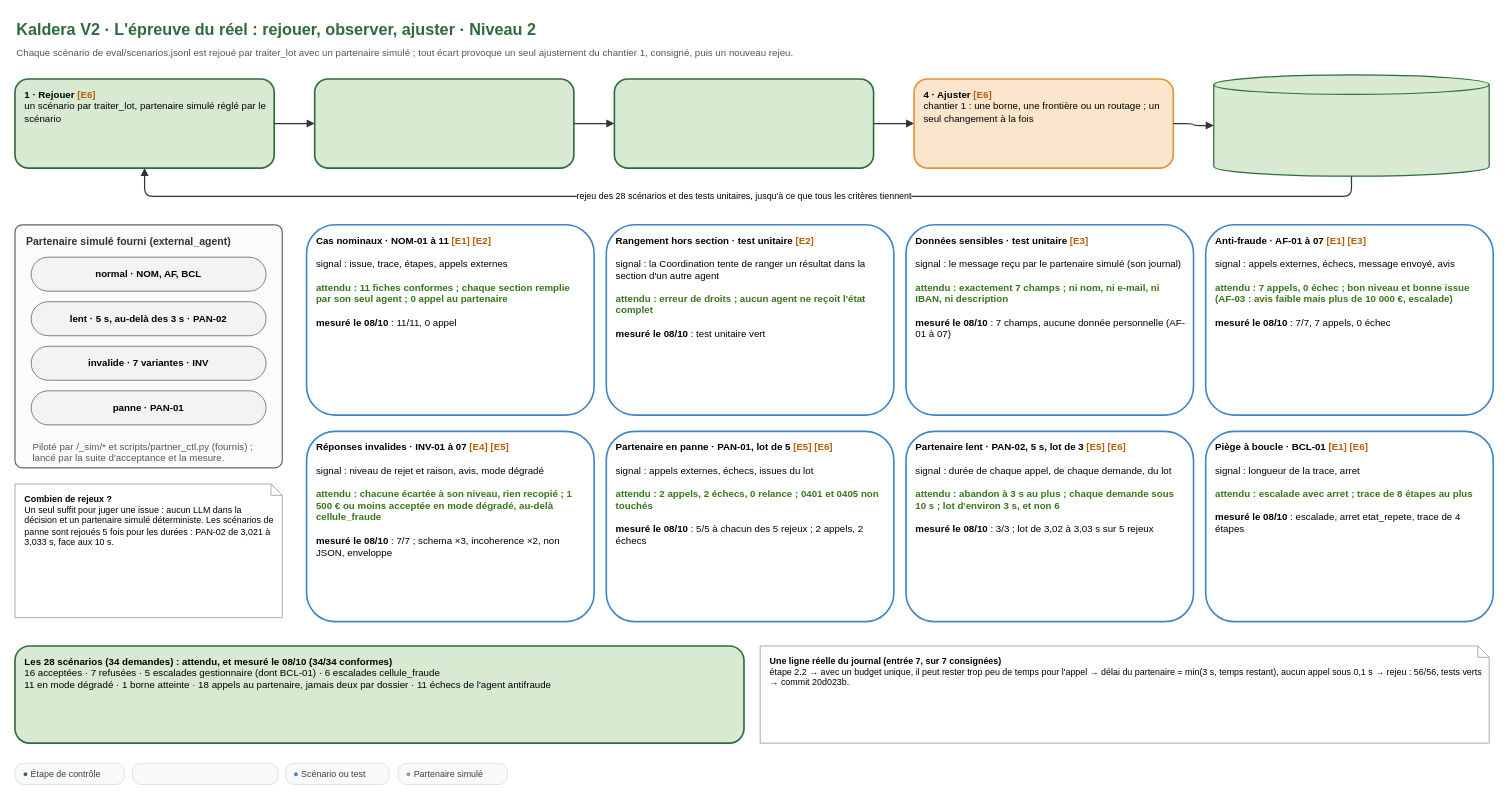
Some shapes in this 1507 by 799 pixel diagram are drawn without their labels. Each missing label, with the centre of its shape:
"2 · Observer [E6] issue, trace (agent, ecrit), métriques par agent, durées" goes at (443,123).
"3 · Comparer [E6] au champ attendu et aux invariants : conforme ou écart" goes at (743,123).
"5 · Consigner [E6] journal : scénario, signal, avant, après, rejeu, commit" goes at (1351,125).
"● Ajustement du chantier 1" goes at (205,773).
